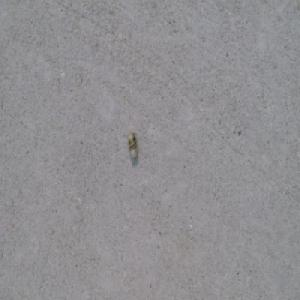BoltNutSet: (127, 131, 138, 159)
